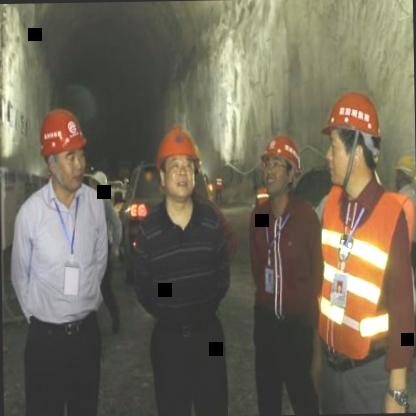helmet: (320, 88, 380, 188), (37, 102, 92, 192), (156, 123, 204, 208), (260, 130, 302, 194), (393, 150, 416, 197), (85, 170, 112, 201)
